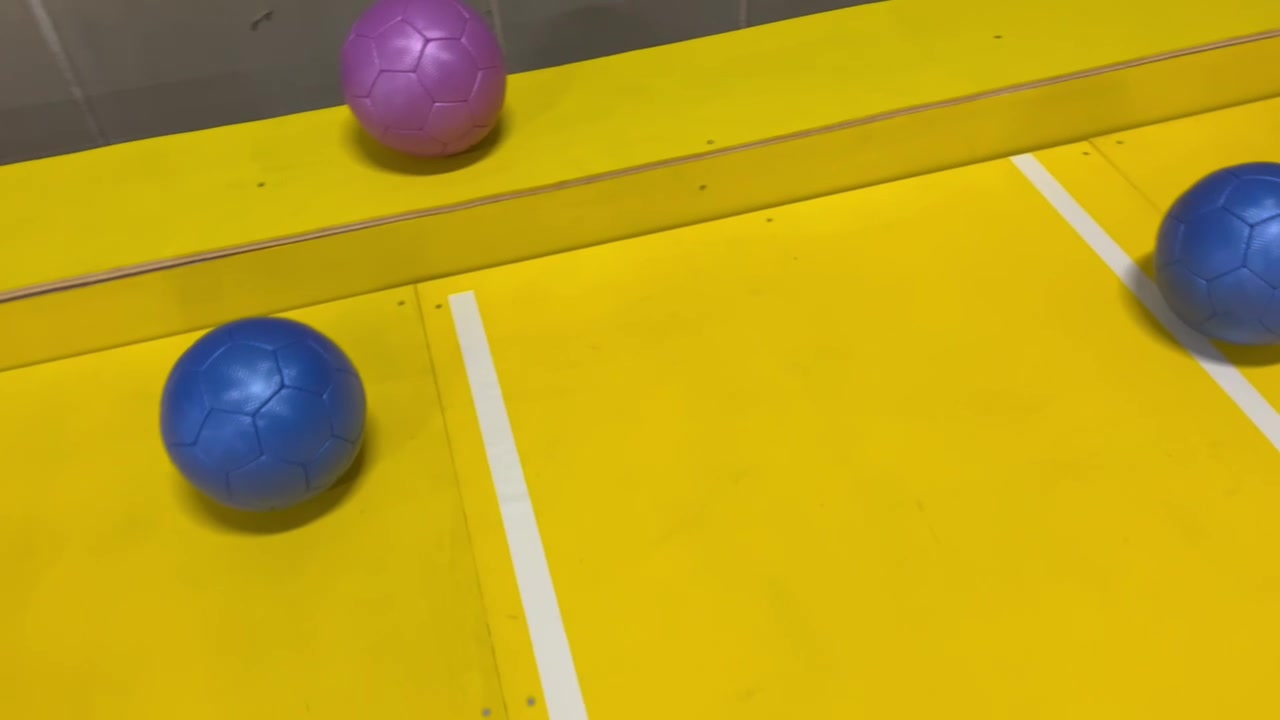blue: (156, 312, 378, 516), (1163, 150, 1280, 389)
